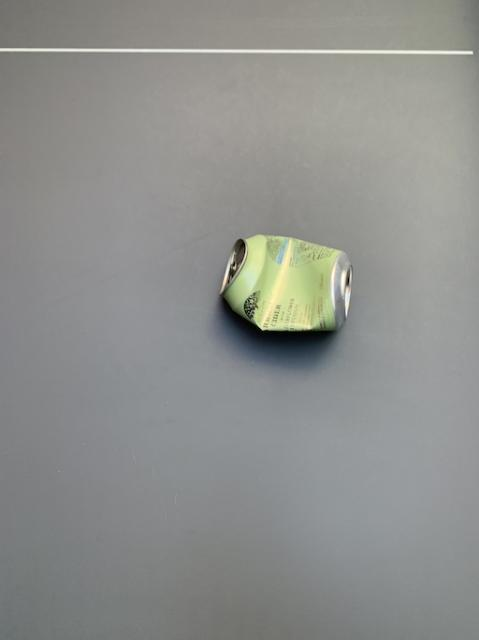metal: (220, 234, 350, 329)
